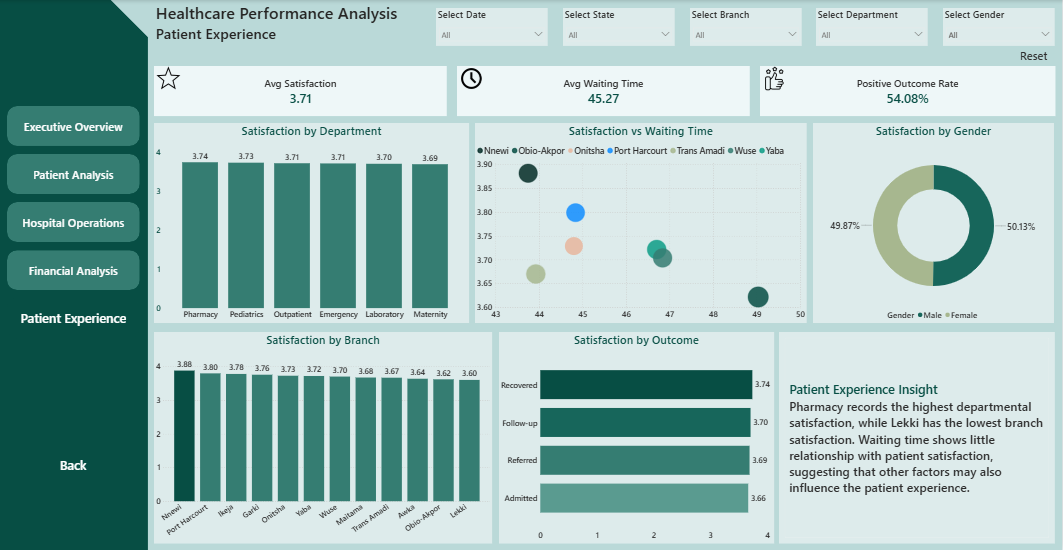

The page's visual inventory and layout, read from the dashboard file:
{"tool":"powerbi","page":{"name":"Patient Experience","canvas":[3140,1625],"ordinal":4},"visuals":[{"type":"cardVisual","fields":{"Data":["Date_Table.Avg Satisfaction"]},"box":[455,195,865,148],"z":0},{"type":"shape","box":[0,0,437.3,1625],"z":1000},{"type":"columnChart","title":"Satisfaction by Department","fields":{"Category":["Patient_Visits.Department"],"Y":["Date_Table.Avg Satisfaction"]},"box":[455,363.4,930.7,590.9],"z":2000},{"type":"clusteredColumnChart","title":"Satisfaction by Branch","fields":{"Category":["Patient_Visits.Branch"],"Y":["Date_Table.Avg Satisfaction"]},"box":[455,980.9,998.6,625],"z":3000},{"type":"donutChart","title":"Satisfaction by Gender","fields":{"Y":["Date_Table.Avg Satisfaction"],"Category":["Patient_Visits.Gender"]},"box":[2402,363.4,712,590.9],"z":4000},{"type":"scatterChart","title":"Satisfaction vs Waiting Time","fields":{"X":["Date_Table.Avg Waiting Time"],"Y":["Date_Table.Avg Satisfaction"],"Size":["Date_Table.Total Visits"],"Series":["Patient_Visits.Branch"]},"box":[1403.9,363.4,980,590.9],"z":5000},{"type":"barChart","title":"Satisfaction by Outcome","fields":{"Y":["Date_Table.Avg Satisfaction"],"Category":["Patient_Visits.Outcome"]},"box":[1474.3,980.9,812.5,625],"z":6000},{"type":"textbox","box":[455,0,783.9,161.3],"z":7000},{"type":"slicer","title":"Select Date","fields":{"Values":["Date_Table.Date"]},"box":[1288.2,23.5,330,112.3],"z":8000},{"type":"slicer","title":"Select State","fields":{"Values":["Patient_Visits.State"]},"box":[1662.8,23.5,330,112.3],"z":9000},{"type":"slicer","title":"Select Branch","fields":{"Values":["Patient_Visits.Branch"]},"box":[2037.4,23.5,330,112.3],"z":10000},{"type":"slicer","title":"Select Department","fields":{"Values":["Patient_Visits.Department"]},"box":[2412,23.6,330,112.3],"z":11000},{"type":"slicer","title":"Select Gender","fields":{"Values":["Patient_Visits.Gender"]},"box":[2786.6,23.5,330,112.3],"z":12000},{"type":"cardVisual","fields":{"Data":["Date_Table.Avg Waiting Time"]},"box":[1350.2,195,865,148],"z":13000},{"type":"cardVisual","fields":{"Data":["Date_Table.Positive Outcome Rate"]},"box":[2245.5,193.9,872.7,148.5],"z":14000},{"type":"image","box":[455,195,85,73.9],"z":15000},{"type":"image","box":[1350.2,195,85,73.9],"z":16000},{"type":"image","box":[2245.5,195,85,73.9],"z":17000},{"type":"cardVisual","fields":{"Data":["Date_Table.Patient Experience Insight"]},"box":[2301.6,980.9,815.5,625],"z":18000},{"type":"pageNavigator","box":[20.7,313.2,392,688],"z":19000},{"type":"actionButton","box":[2987.9,136.4,135,53],"z":20000},{"type":"actionButton","box":[148.5,1324.2,136.4,97],"z":21000}]}

Visuals, with their boxes in screenshot pixels (x1, y1, x2, y2), scaled from the page's 3140x1625 canvas onto the 1063x550 screenshot:
cardVisual - Date_Table.Avg Satisfaction: <box>154,66,447,116</box>
shape: <box>0,0,148,549</box>
"Satisfaction by Department" columnChart: <box>154,123,469,323</box>
"Satisfaction by Branch" clusteredColumnChart: <box>154,332,492,544</box>
"Satisfaction by Gender" donutChart: <box>813,123,1054,323</box>
"Satisfaction vs Waiting Time" scatterChart: <box>475,123,807,323</box>
"Satisfaction by Outcome" barChart: <box>499,332,774,544</box>
textbox: <box>154,0,419,55</box>
"Select Date" slicer: <box>436,8,548,46</box>
"Select State" slicer: <box>563,8,675,46</box>
"Select Branch" slicer: <box>690,8,801,46</box>
"Select Department" slicer: <box>817,8,928,46</box>
"Select Gender" slicer: <box>943,8,1055,46</box>
cardVisual - Date_Table.Avg Waiting Time: <box>457,66,750,116</box>
cardVisual - Date_Table.Positive Outcome Rate: <box>760,66,1056,116</box>
image: <box>154,66,183,91</box>
image: <box>457,66,486,91</box>
image: <box>760,66,789,91</box>
cardVisual - Date_Table.Patient Experience Insight: <box>779,332,1055,544</box>
pageNavigator: <box>7,106,140,339</box>
actionButton: <box>1012,46,1057,64</box>
actionButton: <box>50,448,96,481</box>
